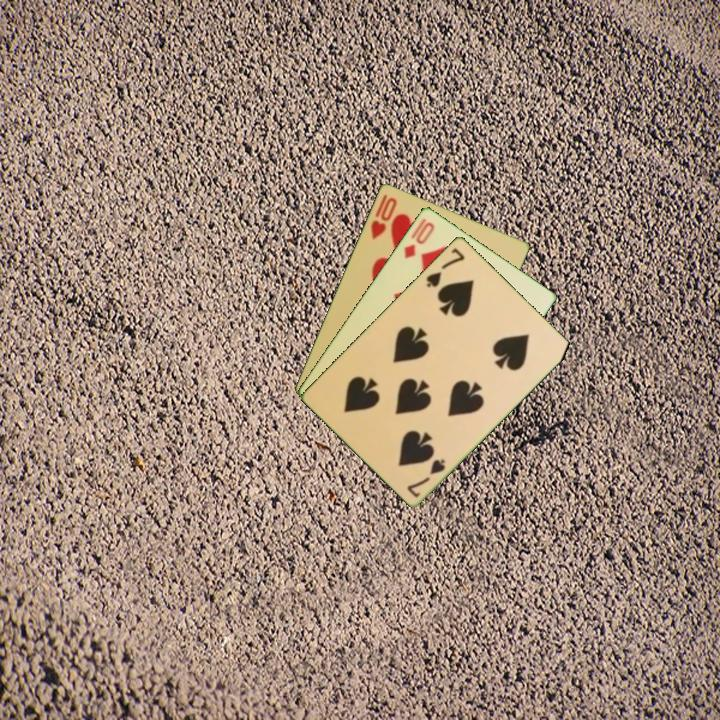10d: (400, 214, 437, 261)
10h: (367, 193, 400, 242)
7s: (422, 244, 468, 290), (404, 454, 448, 500)
